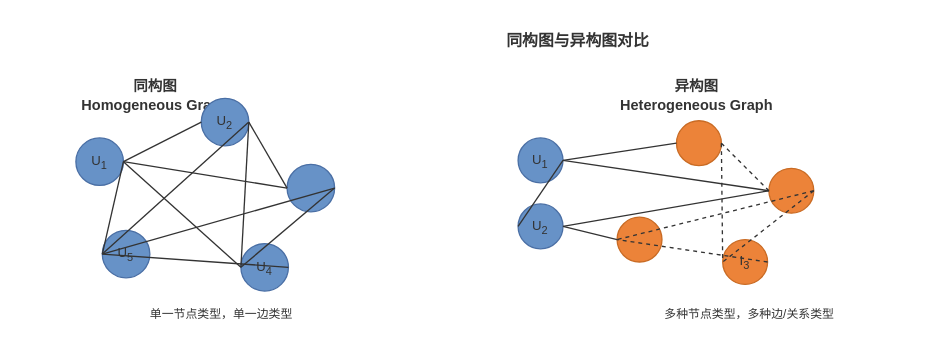
Some shapes in this 942 by 351 pixel diagram are drawn without their labels. The shapes that lost their labels are listed below. From the top down, each one's box as (x1, y1, x2, y2) in pixels, then its label:
(675, 119, 721, 166): I 1
(286, 163, 335, 212): U 3
(768, 167, 814, 213): I 2
(616, 216, 662, 262): I 4
